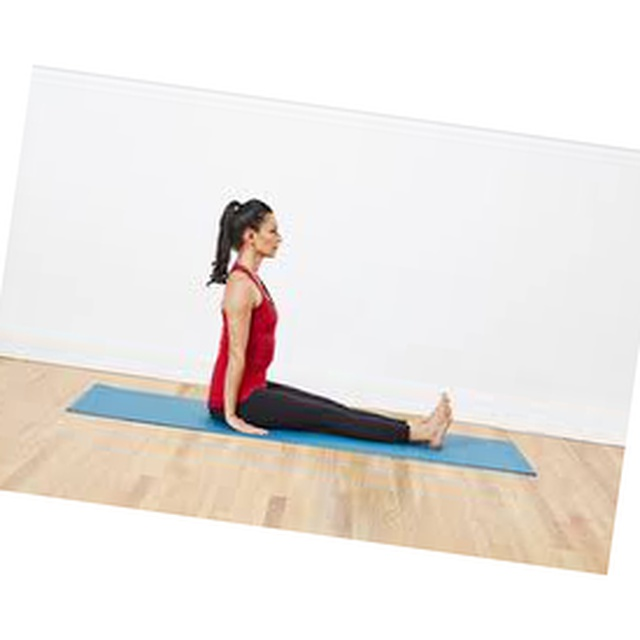Staff_Pose: (205, 198, 452, 450)
